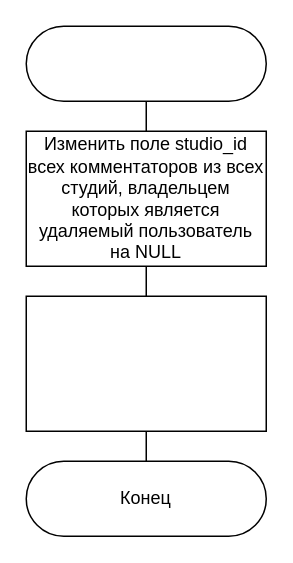
The diagram is 293 pixels wide and 563 high, and some of its shapes have lost their labels. The shapes that lost their labels are listed below. From the top down, each one's centre as x and y in pixels, then its label:
At (x=145, y=63): "Начало".
At (x=145, y=363): "Изменить поле deleted удаляемого пользователя на TRUE".
